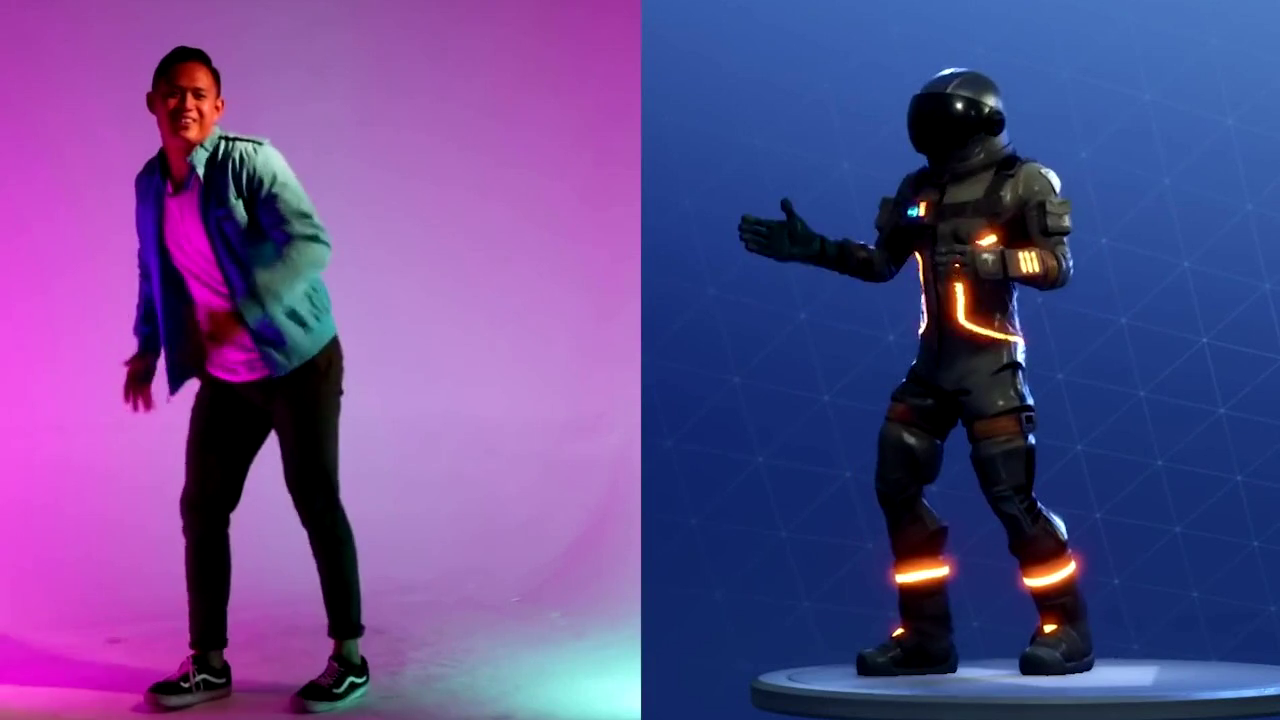Head: (143, 38, 234, 163)
Hip: (180, 348, 376, 452)
LeftAnkle: (273, 617, 407, 716)
LeftElbow: (278, 194, 355, 275)
LeftKnee: (274, 469, 367, 537)
LeftShoulder: (216, 125, 303, 214)
LeftWrist: (179, 296, 273, 357)
RightAnkle: (135, 630, 233, 711)
RightKnee: (159, 464, 260, 559)
RightShoulder: (119, 151, 200, 219)
RightWrist: (106, 329, 176, 410)
Torso: (139, 159, 330, 379)
